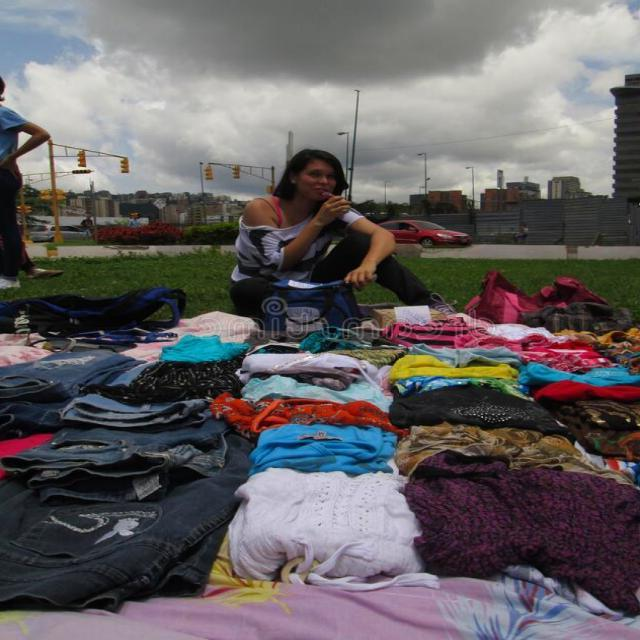clothes: (9, 275, 640, 640)
